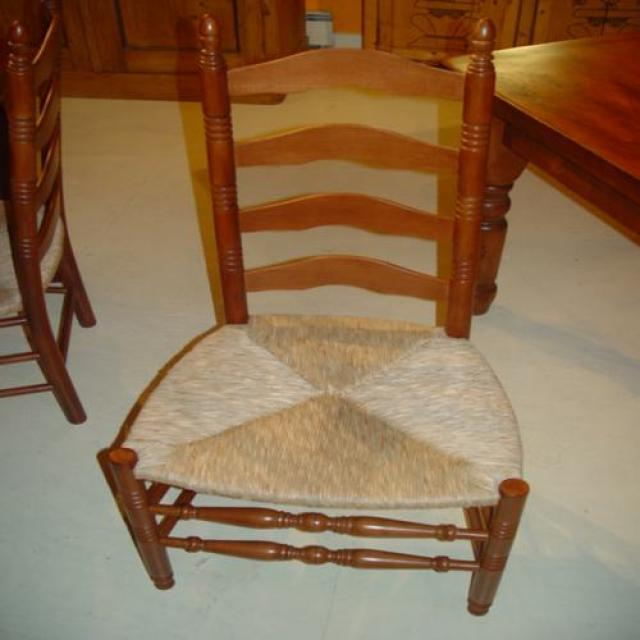chair: (99, 17, 531, 617)
